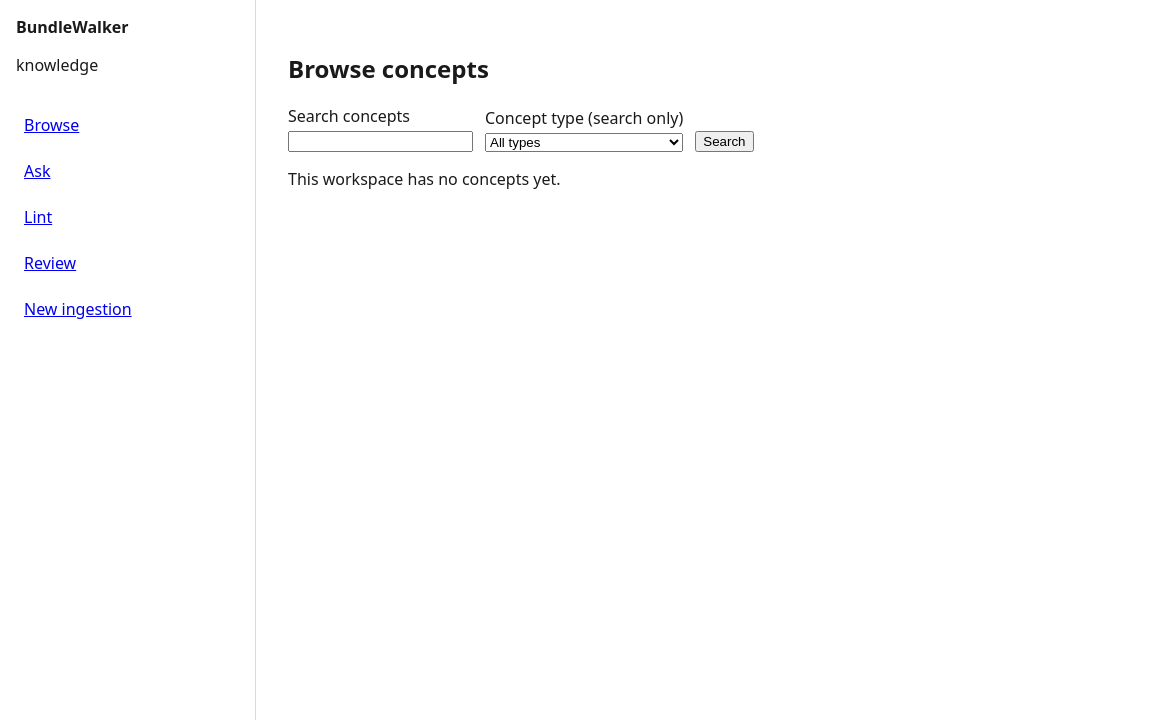
it: submits a lexical search exactly once
The image size is (1152, 720).
In the search field labelled "Search concepts": {"x": 380, "y": 141} [288, 131, 473, 152], type "agents"
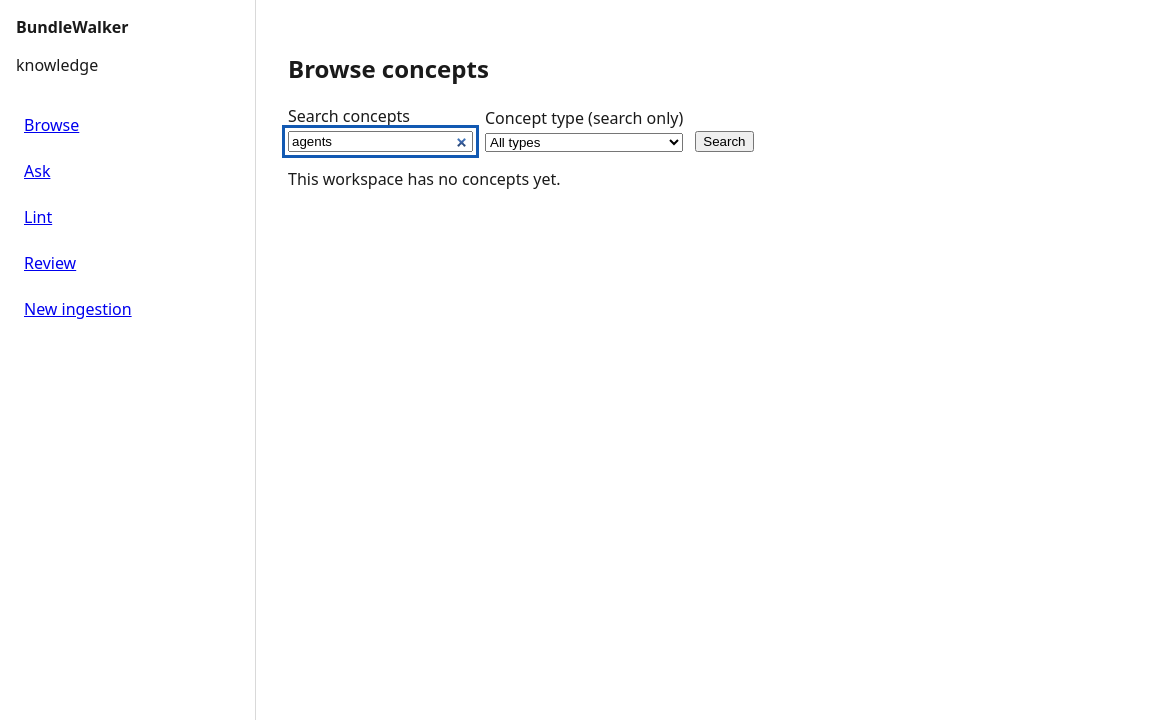
Click the button "Search": {"x": 724, "y": 141} [695, 131, 754, 152]
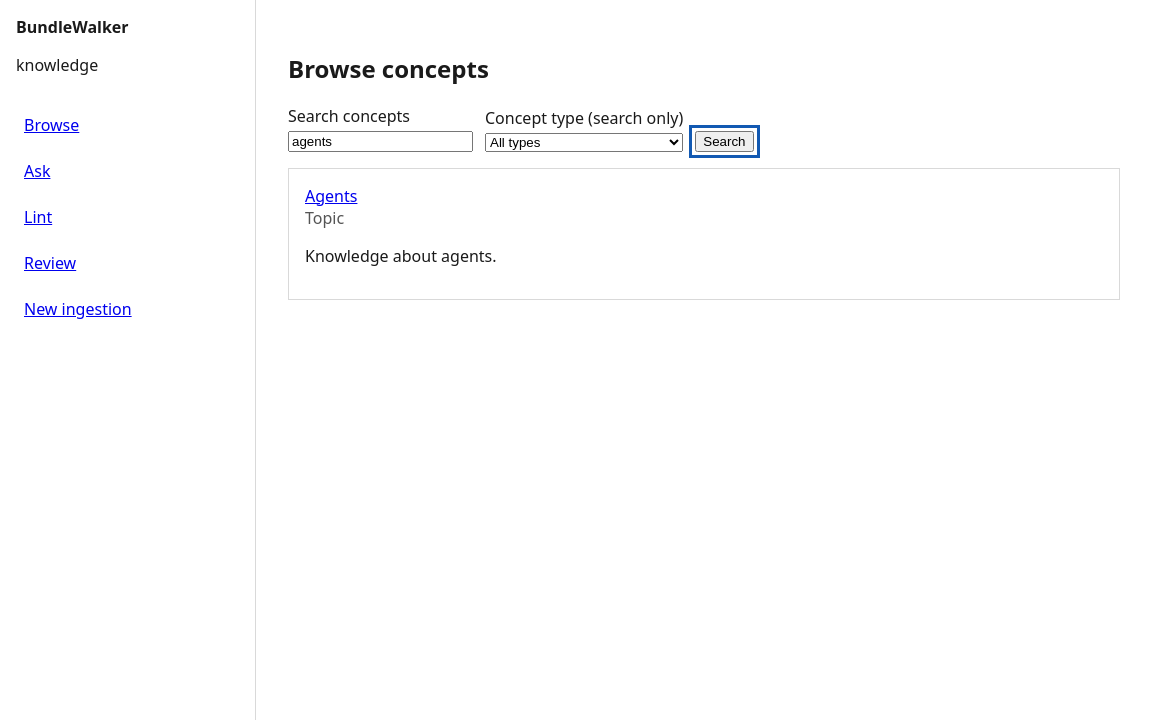
Check: the link "Agents" is shown, box [305, 185, 357, 207]
